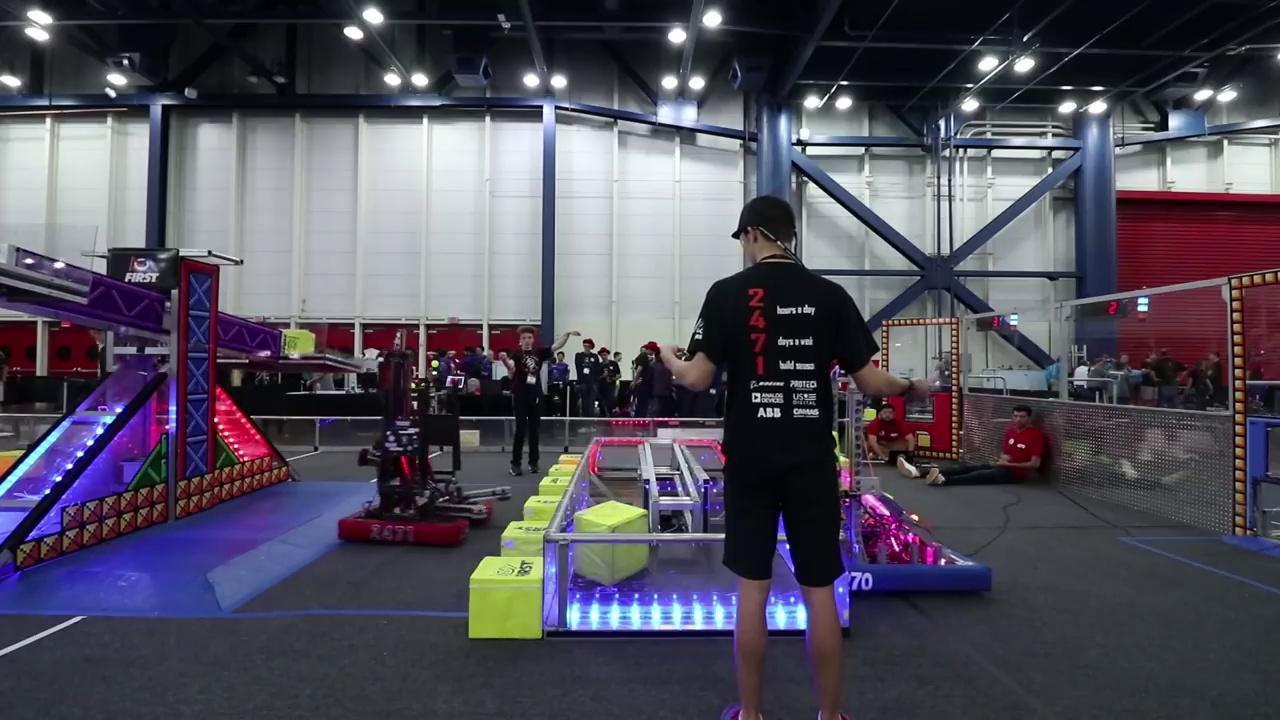robot: (842, 388, 998, 606), (330, 365, 513, 549)
